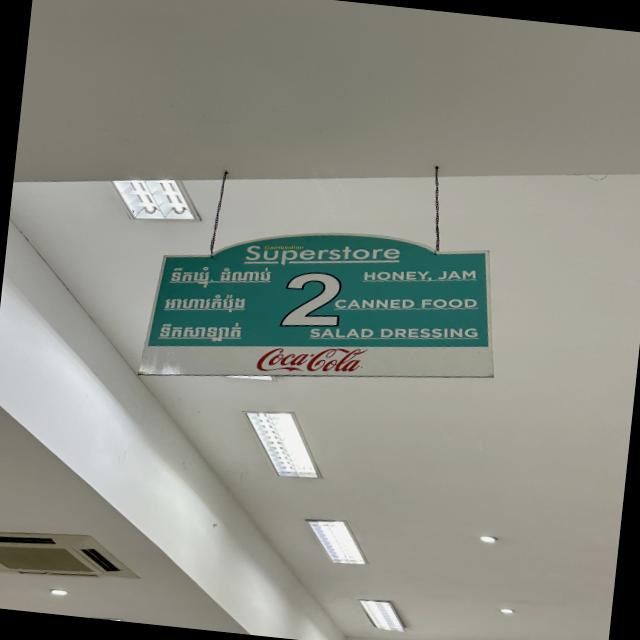631: (275, 268, 352, 327)
Yolov11_80vkh: (162, 264, 274, 292), (152, 320, 252, 346), (160, 294, 257, 317)
